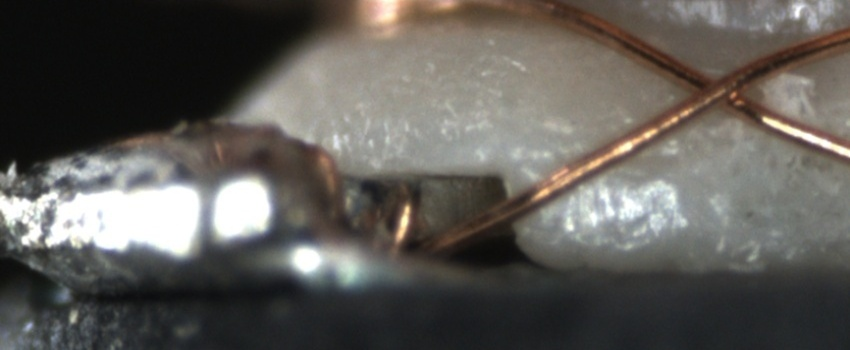CL: (669, 56, 763, 120)
DL: (529, 134, 688, 184)
TE: (291, 136, 424, 256)
